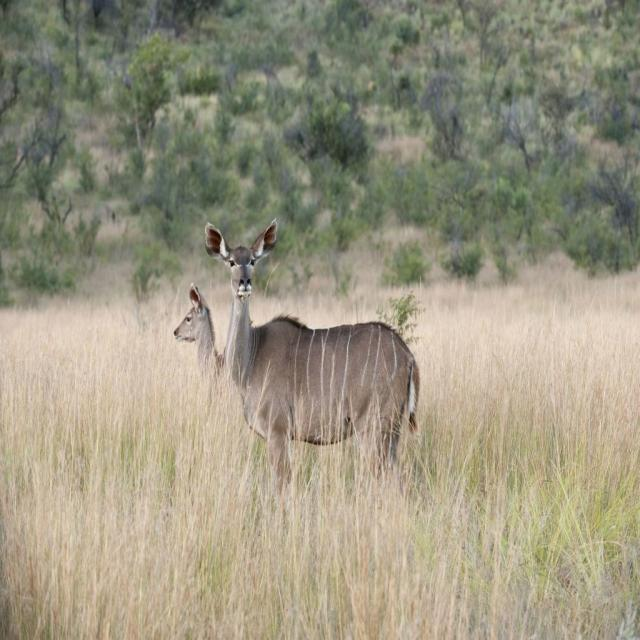Deer: (204, 216, 420, 503), (172, 280, 224, 420)
